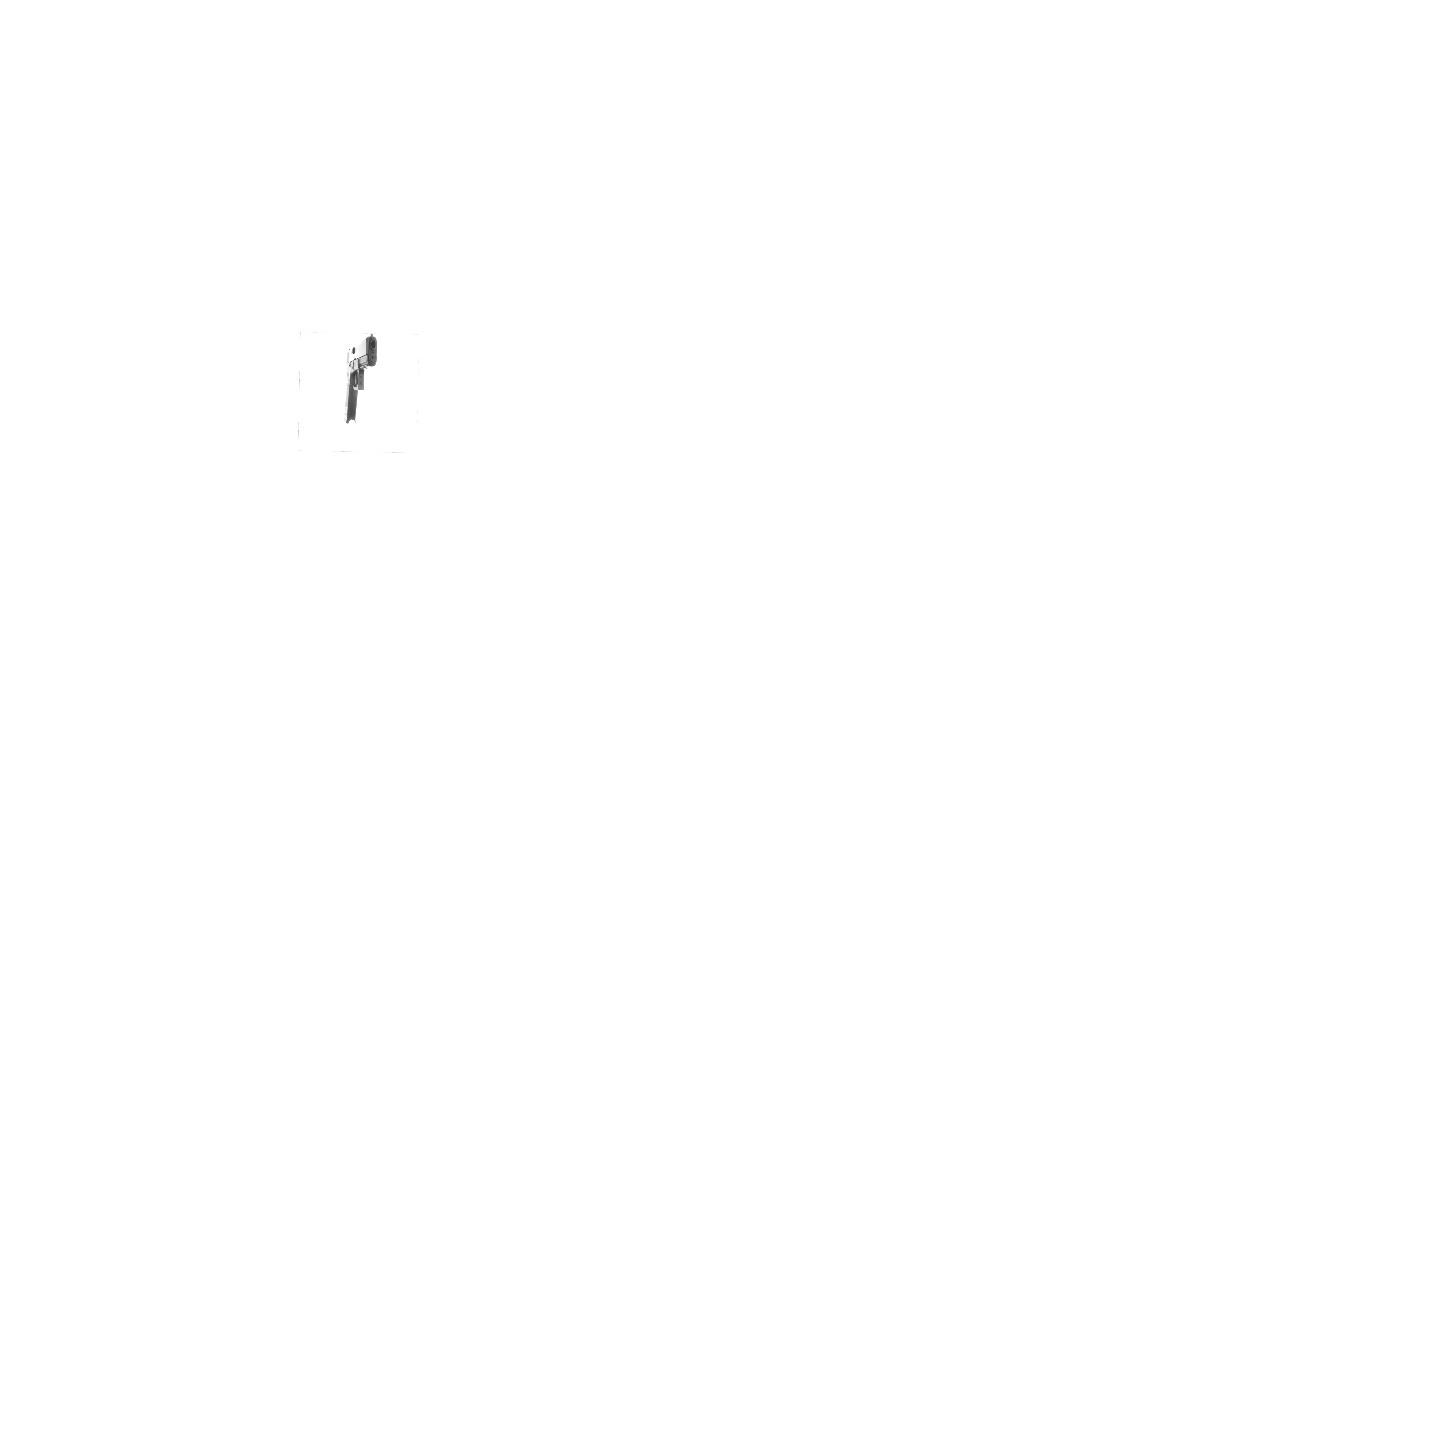gun: (338, 336, 383, 423)
